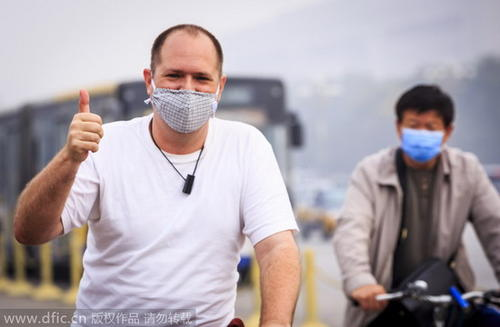yes_mask: (141, 21, 228, 136), (389, 82, 457, 165)
